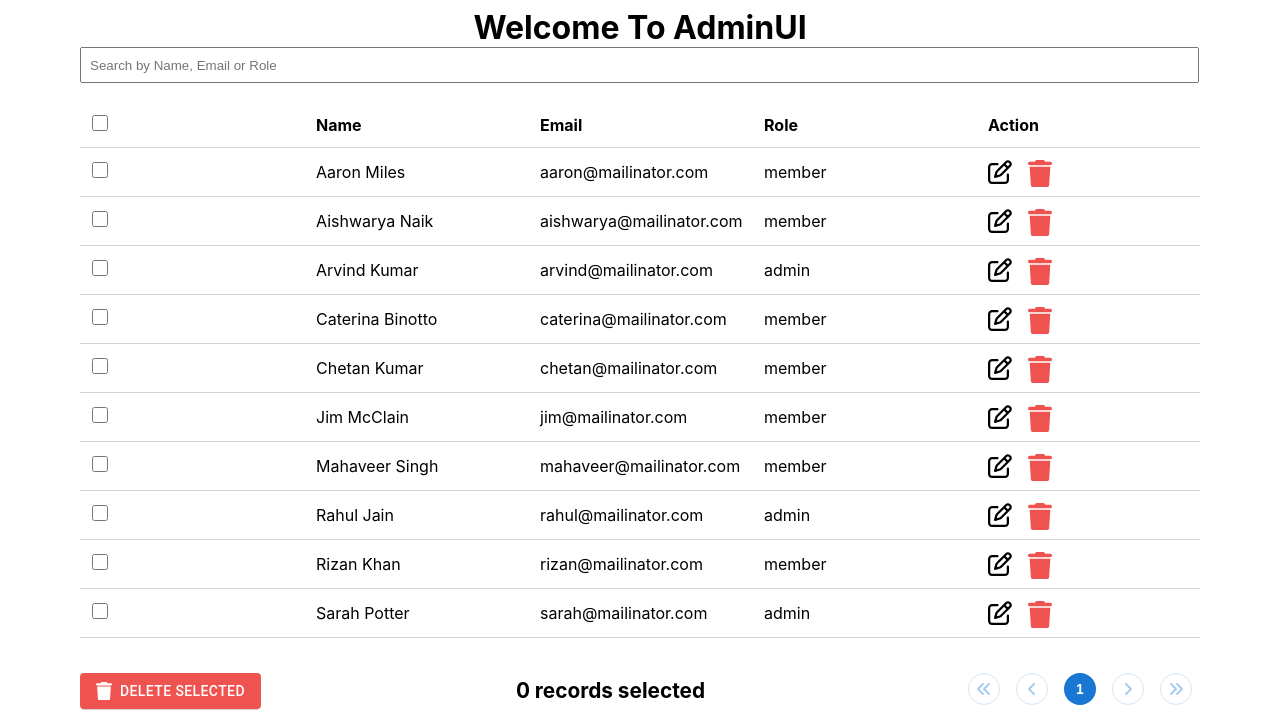
Admin-UI - Search Bar Test › 5. should show 'no records found' if search string does not get user record
This screenshot has width=1280, height=720.
Type "delhi" into the field with placeholder "Search by Name, Email or Role" at [640, 65], box [80, 47, 1199, 83]
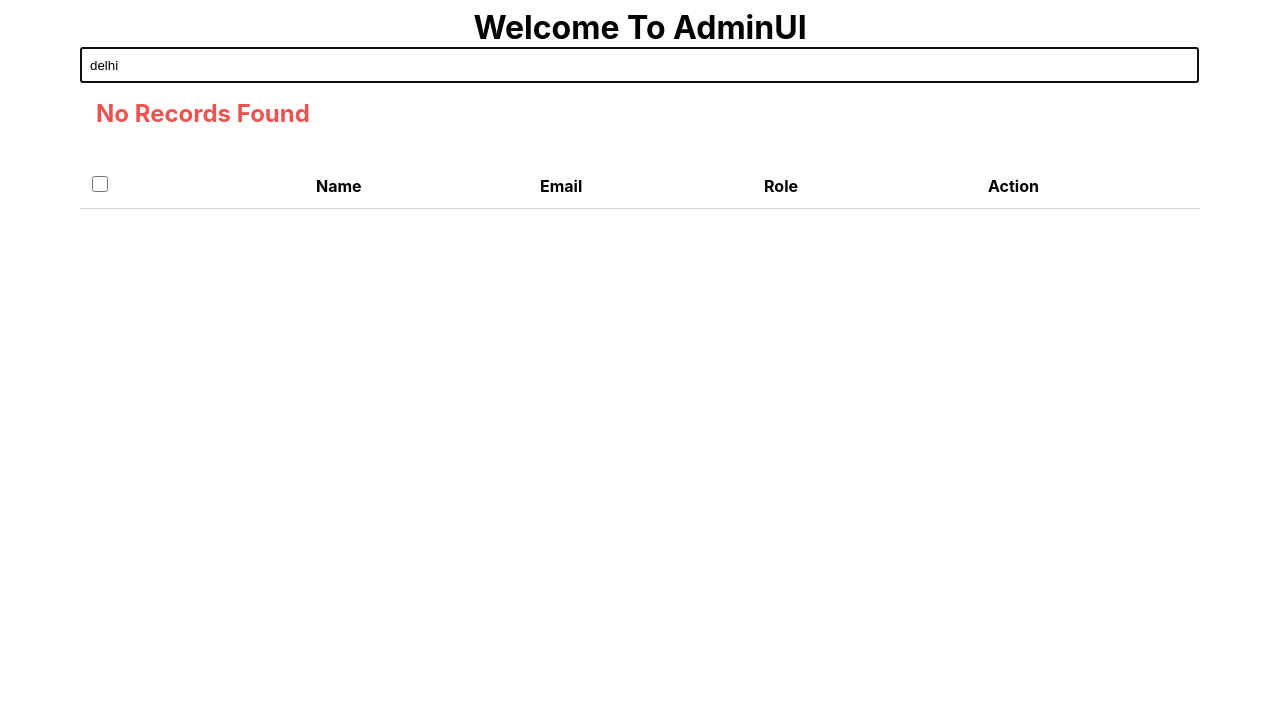
Expected: the heading "No Records Found" is shown, [96, 99, 310, 128]
